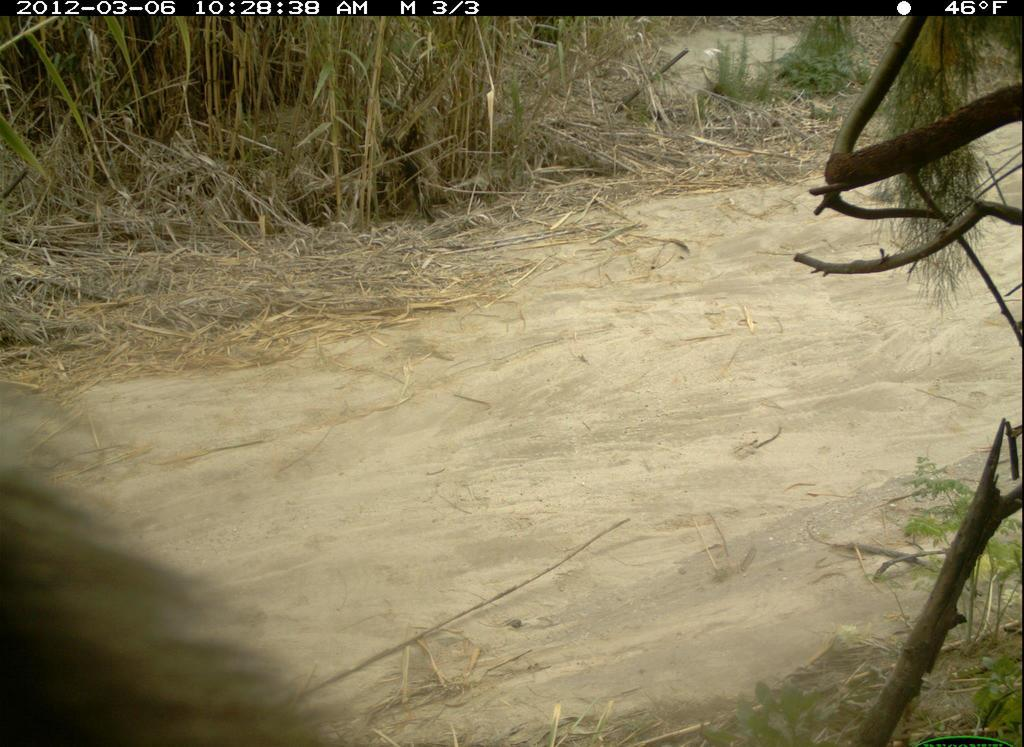coyote: (3, 446, 370, 747)
